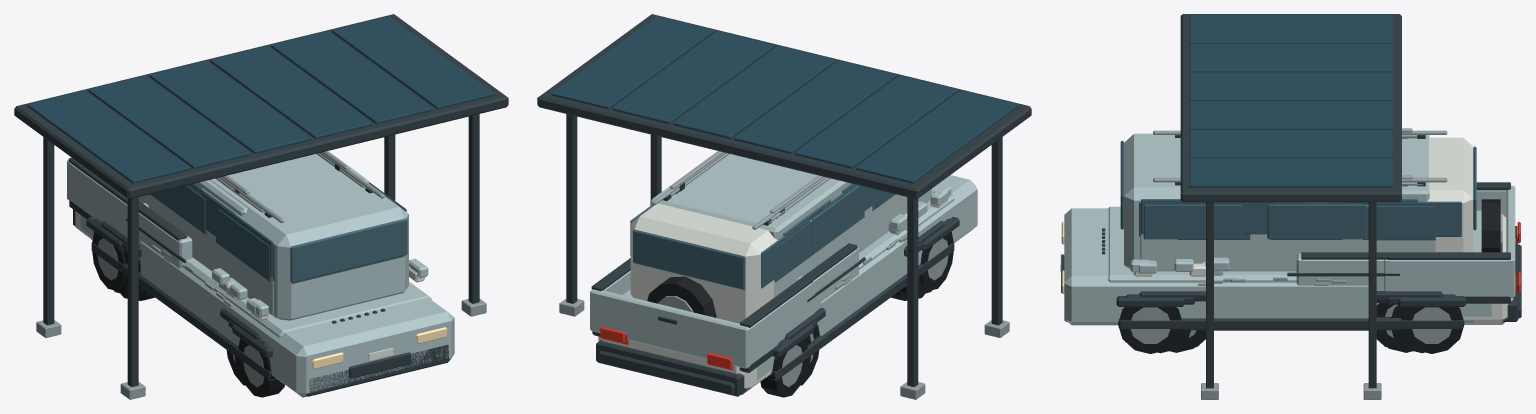
File: campus-mobility.glb
3 views of the same model, side by side, from view 1: azimuth 30°, elevation 25°; view 2: azimuth 150°, elevation 25°; view 3: azimuth 270°, elevation 25° (orthographic). The views are drawn at different scales.
Visible parts, largest first — view 1: Raised passenger cabin.005, Cantilever bicycle canopy frame, Commercial cab lower body.001, Commercial cab lower body, Solar panel strip, Solar panel strip.002, Solar panel strip.004, Solar panel strip.005, Solar panel strip.001, Solar panel strip.003, Front windscreen.005, Raised passenger cabin.006 (+21 smaller); view 2: Cantilever bicycle canopy frame, Raised passenger cabin.002, Raised passenger cabin.003, Solar panel strip, Solar panel strip.002, Solar panel strip.004, Solar panel strip.005, Solar panel strip.001, Solar panel strip.003, Cargo bed headboard or tailgate, Cargo bed headboard or tailgate.002, Commercial cab lower body.001 (+27 smaller); view 3: Commercial cab lower body.001, Cantilever bicycle canopy frame, Solar panel strip.001, Solar panel strip.004, Solar panel strip.005, Solar panel strip, Solar panel strip.002, Solar panel strip.003, Raised passenger cabin.006, Raised passenger cabin.005, Cargo bed side wall.003, Raised passenger cabin.003 (+33 smaller).
Boxes of the visible parts, x1=… form: Raised passenger cabin.005: x1=201, y1=154, x2=408, y2=320; Cantilever bicycle canopy frame: x1=14, y1=14, x2=508, y2=199; Commercial cab lower body.001: x1=140, y1=241, x2=454, y2=397; Commercial cab lower body: x1=191, y1=276, x2=453, y2=391; Solar panel strip: x1=27, y1=90, x2=189, y2=183; Solar panel strip.002: x1=149, y1=61, x2=311, y2=153; Solar panel strip.004: x1=271, y1=31, x2=433, y2=124; Solar panel strip.005: x1=332, y1=16, x2=494, y2=109; Solar panel strip.001: x1=88, y1=75, x2=250, y2=168; Solar panel strip.003: x1=210, y1=46, x2=372, y2=138; Front windscreen.005: x1=290, y1=218, x2=407, y2=282; Raised passenger cabin.006: x1=154, y1=198, x2=275, y2=317; Cantilever bicycle canopy frame: x1=537, y1=14, x2=1031, y2=199; Raised passenger cabin.002: x1=650, y1=151, x2=851, y2=239; Raised passenger cabin.003: x1=630, y1=201, x2=928, y2=323; Solar panel strip: x1=856, y1=90, x2=1018, y2=183; Solar panel strip.002: x1=734, y1=61, x2=896, y2=153; Solar panel strip.004: x1=612, y1=31, x2=774, y2=124; Solar panel strip.005: x1=551, y1=16, x2=713, y2=109; Solar panel strip.001: x1=795, y1=75, x2=957, y2=168; Solar panel strip.003: x1=673, y1=46, x2=835, y2=138; Cargo bed headboard or tailgate: x1=591, y1=289, x2=746, y2=368; Cargo bed headboard or tailgate.002: x1=590, y1=289, x2=750, y2=368; Commercial cab lower body.001: x1=818, y1=181, x2=977, y2=335; Commercial cab lower body.001: x1=1064, y1=277, x2=1368, y2=325; Cantilever bicycle canopy frame: x1=1180, y1=14, x2=1401, y2=202; Solar panel strip.001: x1=1189, y1=43, x2=1392, y2=72; Solar panel strip.004: x1=1189, y1=129, x2=1392, y2=158; Solar panel strip.005: x1=1189, y1=158, x2=1392, y2=187; Solar panel strip: x1=1189, y1=15, x2=1392, y2=43; Solar panel strip.002: x1=1189, y1=72, x2=1392, y2=101; Solar panel strip.003: x1=1189, y1=101, x2=1392, y2=129; Raised passenger cabin.006: x1=1140, y1=205, x2=1368, y2=271; Raised passenger cabin.005: x1=1124, y1=133, x2=1180, y2=268; Cargo bed side wall.003: x1=1390, y1=260, x2=1508, y2=296; Raised passenger cabin.003: x1=1427, y1=137, x2=1473, y2=252.
Size of the model in its own units: 4.7 by 2.64 by 5.11.
